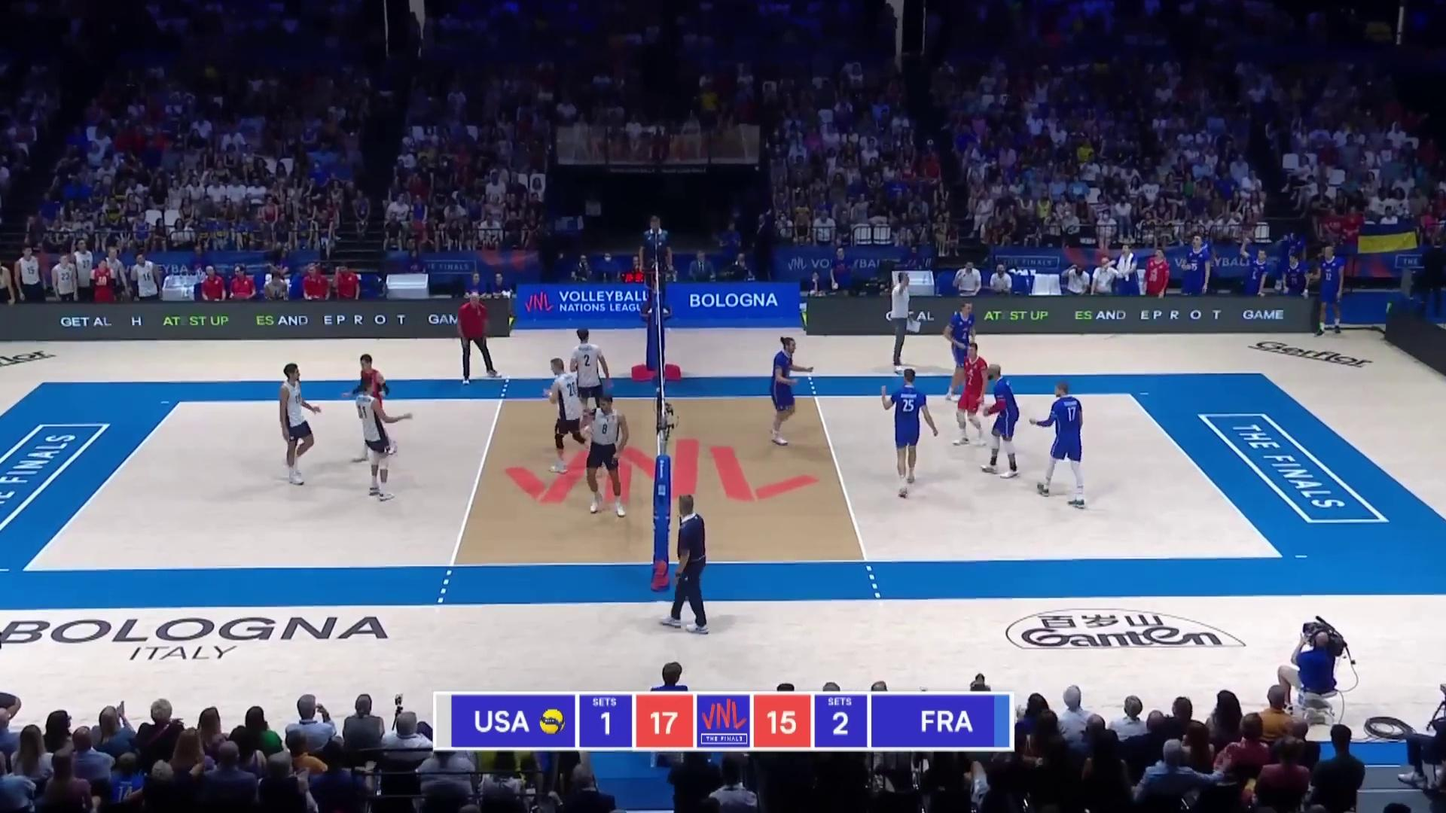player: (882, 374, 936, 496), (1036, 382, 1087, 507), (585, 391, 632, 517), (560, 330, 612, 437), (353, 379, 396, 499), (545, 358, 588, 477), (978, 364, 1022, 477), (281, 365, 323, 483), (773, 338, 814, 445), (351, 354, 397, 446), (951, 344, 991, 447), (944, 304, 980, 390)
refree: (664, 494, 709, 635), (639, 219, 672, 316)
